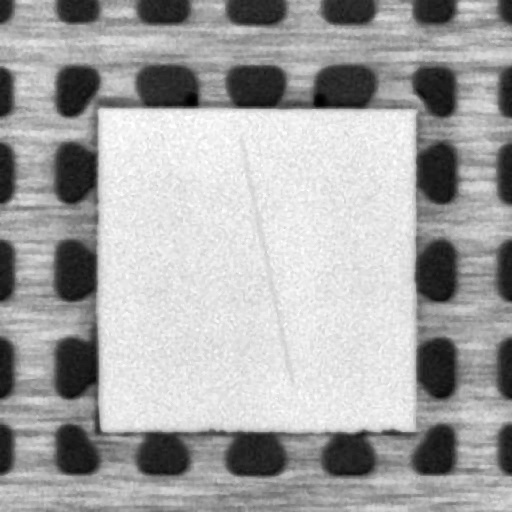DIE_CRACK: (244, 134, 297, 375)
